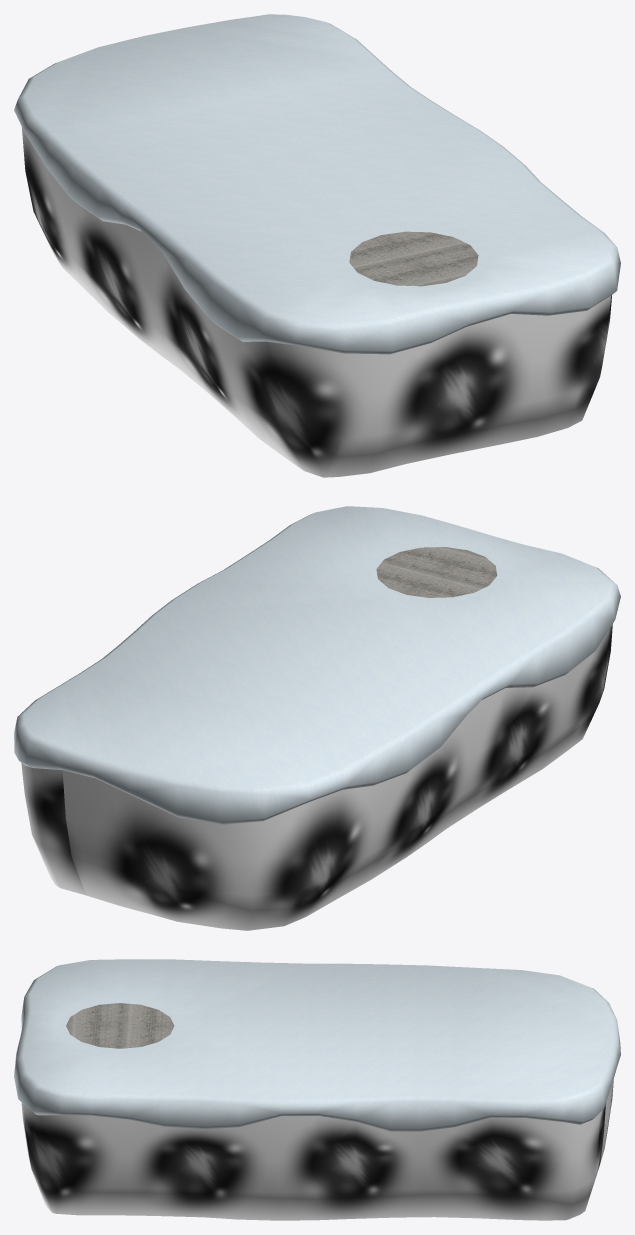
File: SnowBowlingStepA.fbx
3 views of the same model, one above another, from view 1: azimuth 30°, elevation 25°; view 2: azimuth 150°, elevation 25°; view 3: azimuth 270°, elevation 25° (orthographic). The views are drawn at different scales.
Visible parts, largest first — view 1: Plane.003, Plane.000; view 2: Plane.003, Plane.000; view 3: Plane.003, Plane.000.
Boxes of the visible parts, x1,y1,x2,y2 form: Plane.003: (14,14,620,354); Plane.000: (22,127,611,477); Plane.003: (14,506,620,824); Plane.000: (21,624,612,930); Plane.003: (14,959,620,1131); Plane.000: (21,1080,613,1220).
Size of the model in its own units: 148411 by 63534 by 258414.
Materials: 3 (3 with a texture image).
